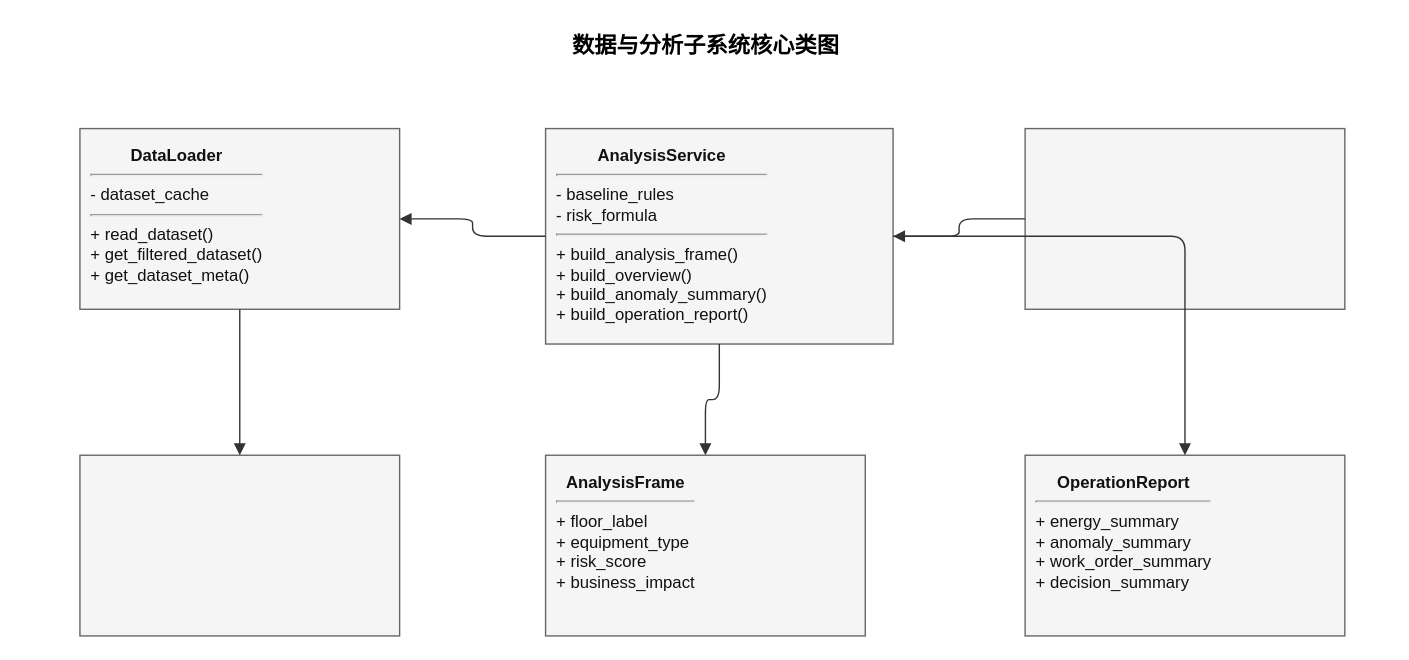
The diagram is 1409 pixels wide and 660 high, and some of its shapes have lost their labels. The centre of each missing label's shape, as x and y in pixels:
ExportService + build_csv_content() + build_export_filename(): the point at 1184,218
SimulationService + apply_window() + apply_interventions(): the point at 239,545
